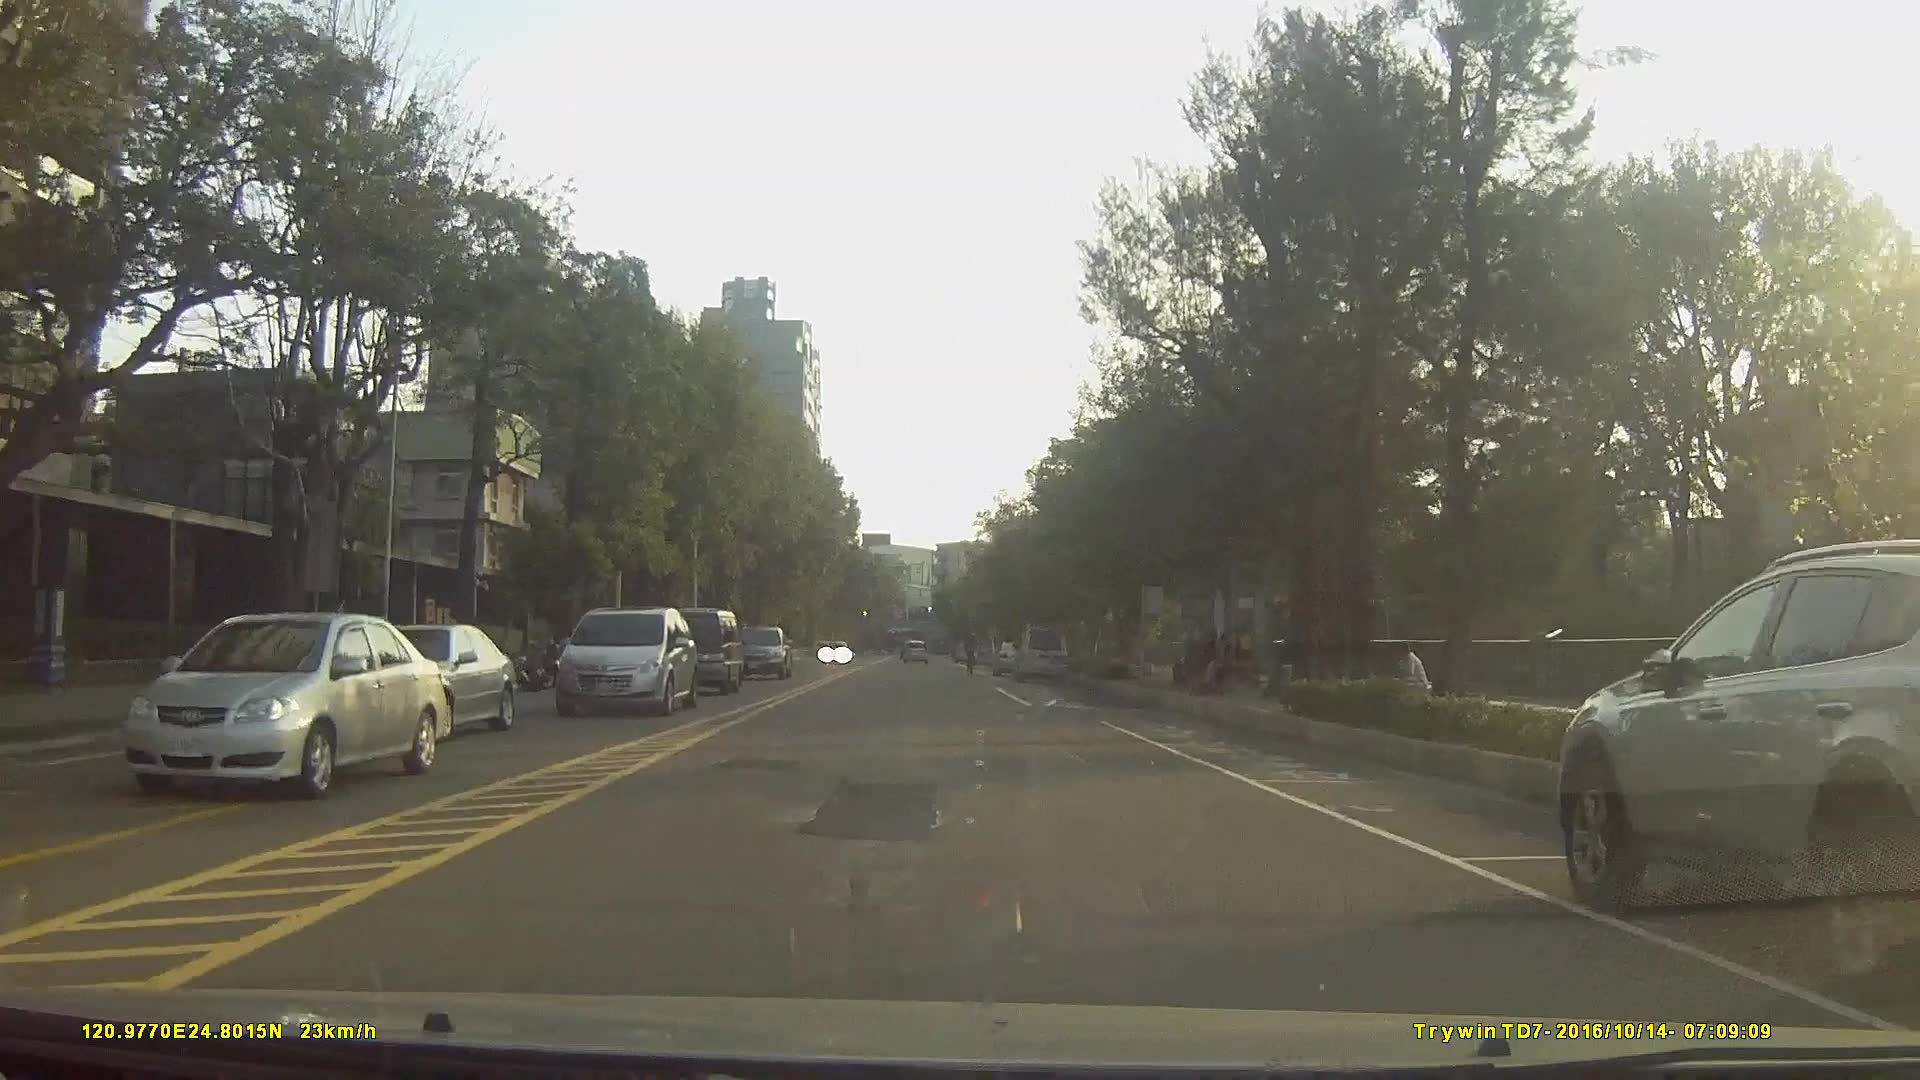rider: (962, 633, 982, 678)
vehicle: (1554, 535, 1920, 1000), (123, 609, 450, 801), (351, 622, 516, 741), (550, 606, 698, 718), (647, 604, 741, 692), (1010, 622, 1070, 684), (729, 623, 790, 678), (991, 637, 1028, 677), (899, 637, 928, 665)
